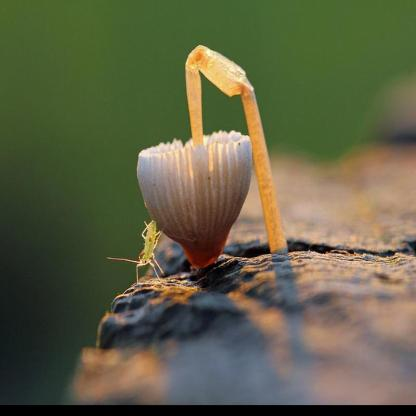aphid: (119, 208, 169, 289)
